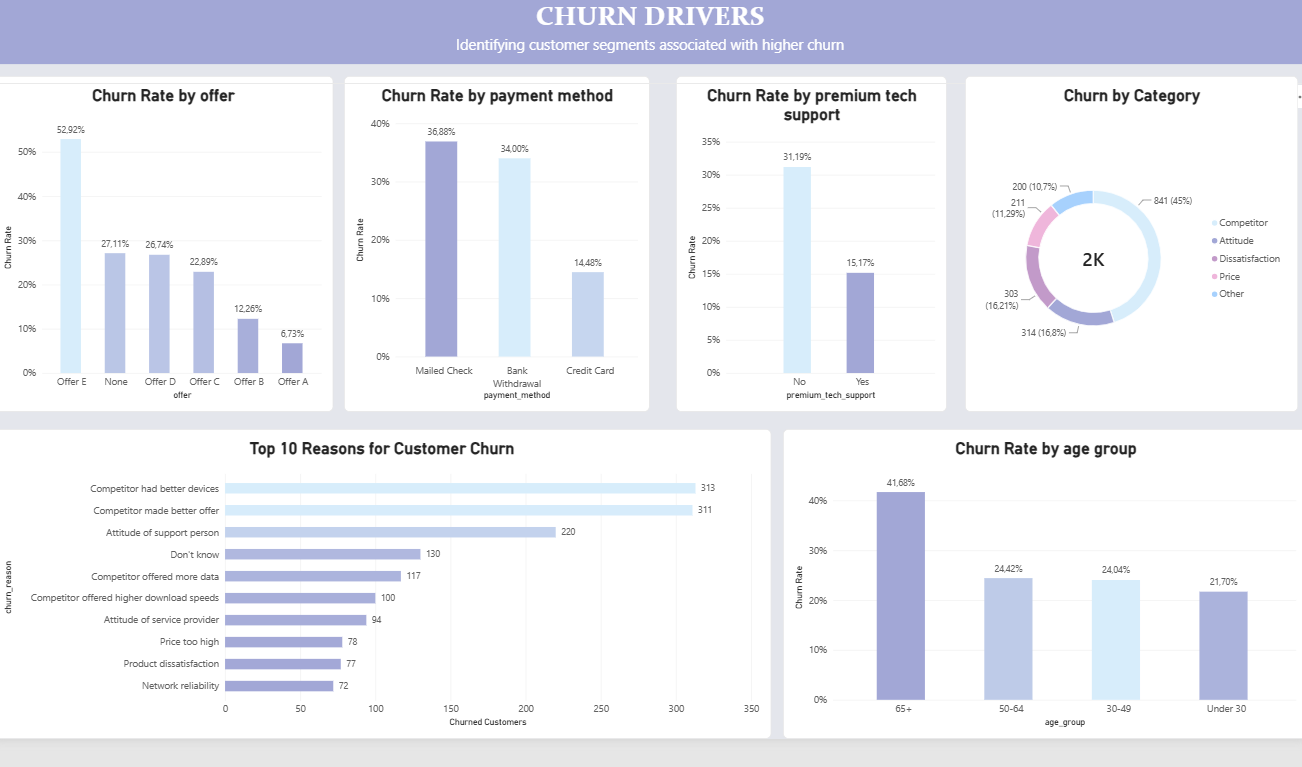

The dashboard page shown, as its layout file describes it:
{"tool":"powerbi","page":{"name":"Churn Drivers","canvas":[1920,1080],"ordinal":1},"visuals":[{"type":"clusteredColumnChart","title":"Churn Rate by offer","fields":{"Category":["public churn_analysis.offer"],"Y":["public churn_analysis.Churn Rate"]},"box":[0,113,498.3,490.3],"z":0},{"type":"clusteredColumnChart","title":"Churn Rate by payment method","fields":{"Category":["public churn_analysis.payment_method"],"Y":["public churn_analysis.Churn Rate"]},"box":[514.2,113,445.8,490.3],"z":1000},{"type":"clusteredColumnChart","title":"Churn Rate by premium tech support","fields":{"Category":["public churn_analysis.premium_tech_support"],"Y":["public churn_analysis.Churn Rate"]},"box":[998.2,113,394.8,490.3],"z":2000},{"type":"columnChart","title":"Churn Rate by age group","fields":{"Category":["public churn_analysis.age_group"],"Y":["public churn_analysis.Churn Rate"]},"box":[1154.2,627.3,765.8,452.1],"z":3000},{"type":"textbox","title":"CHURN DRIVERS","box":[0,0,1920,124],"z":4000},{"type":"clusteredBarChart","title":"Top 10 Reasons for Customer Churn","fields":{"Category":["public churn_analysis.churn_reason"],"Y":["public churn_analysis.Churned Customers"]},"box":[0,627.4,1136.5,452.3],"z":5000},{"type":"donutChart","title":"Churn by Category","fields":{"Category":["public churn_analysis.churn_category"],"Y":["public churn_analysis.Churned Customers"]},"box":[1420.1,113,485.6,490.3],"z":6000}]}

Visuals, with their boxes on the page's 1920x1080 design canvas (x1, y1, x2, y2). These are canvas units, not pixel positions in the 1302x767 screenshot, which may show the page scaled, cropped or inside an application window:
"Churn Rate by offer" clusteredColumnChart: crop(0, 113, 498, 603)
"Churn Rate by payment method" clusteredColumnChart: crop(514, 113, 960, 603)
"Churn Rate by premium tech support" clusteredColumnChart: crop(998, 113, 1393, 603)
"Churn Rate by age group" columnChart: crop(1154, 627, 1920, 1079)
"CHURN DRIVERS" textbox: crop(0, 0, 1920, 124)
"Top 10 Reasons for Customer Churn" clusteredBarChart: crop(0, 627, 1136, 1080)
"Churn by Category" donutChart: crop(1420, 113, 1906, 603)
